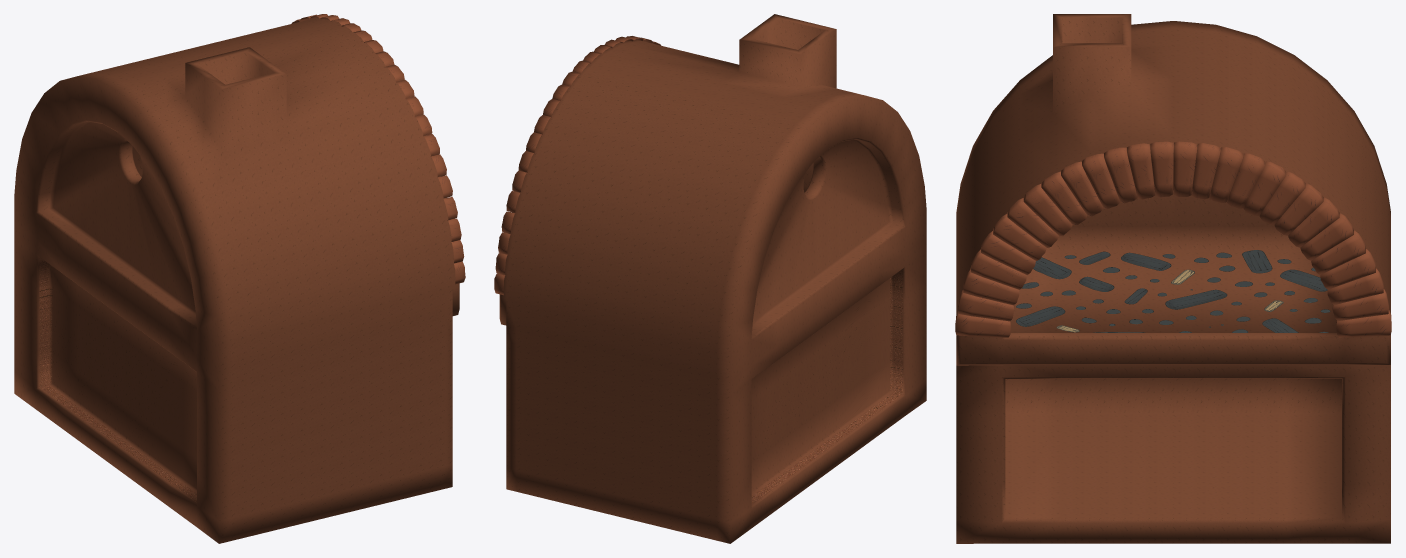
Rendered from forge.fbx.
The picture shows the model from 3 angles, left to right: view 1: azimuth 30°, elevation 25°; view 2: azimuth 150°, elevation 25°; view 3: azimuth 270°, elevation 25°; orthographic projection. The views are drawn at different scales.
Parts seen in each view (by area): view 1: Remaings_decal; view 2: Remaings_decal; view 3: Remaings_decal.
Boxes of the visible parts, x1=… form: Remaings_decal: x1=14, y1=14, x2=465, y2=543; Remaings_decal: x1=494, y1=14, x2=926, y2=543; Remaings_decal: x1=955, y1=14, x2=1391, y2=543.
Size of the model in its own units: 168 by 266 by 243.
3 materials, 3 textured.
